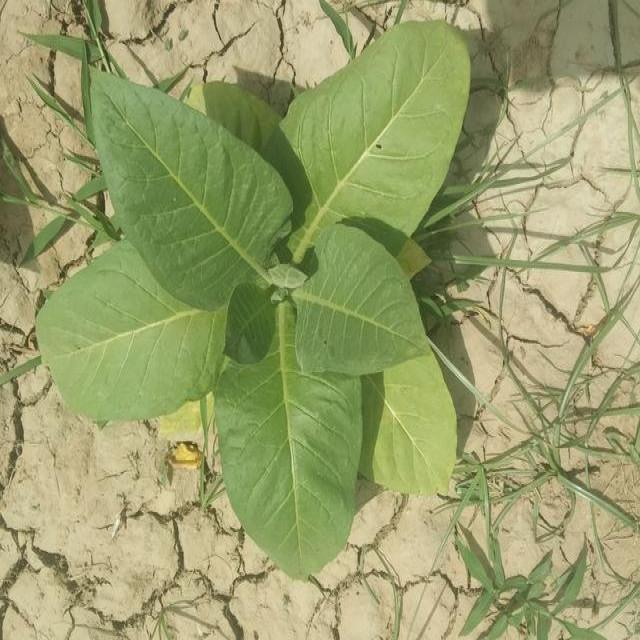crop: (35, 47, 457, 576)
